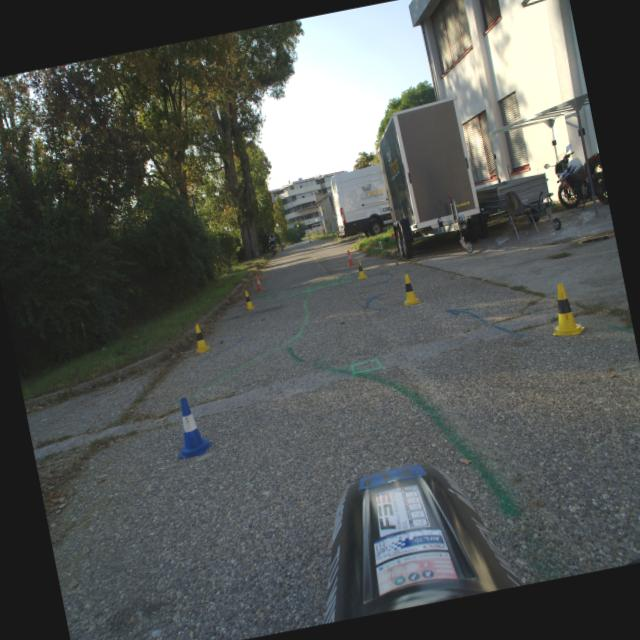blue_cone: (168, 394, 214, 458)
orange_cone: (253, 274, 265, 292), (344, 249, 356, 266)
yellow_cone: (544, 280, 586, 338), (189, 322, 213, 354), (399, 272, 421, 306), (241, 290, 257, 310), (354, 259, 368, 280)
